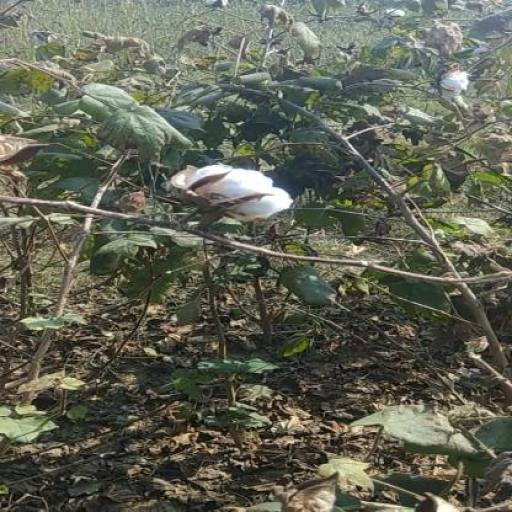cotton_ready: (159, 162, 300, 248)
